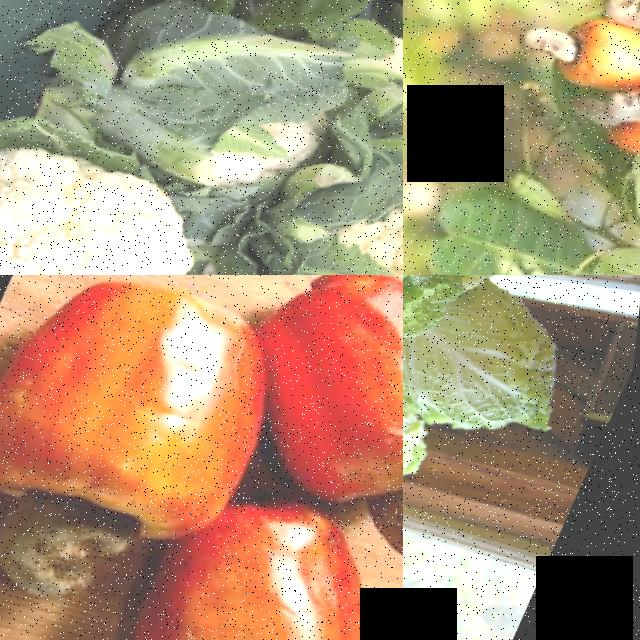cabbage: (408, 279, 613, 480)
cashew: (0, 460, 201, 640), (358, 451, 403, 614), (507, 10, 591, 86), (596, 0, 640, 48), (607, 88, 640, 141)
cauliflower: (0, 70, 277, 275), (238, 77, 403, 275)
